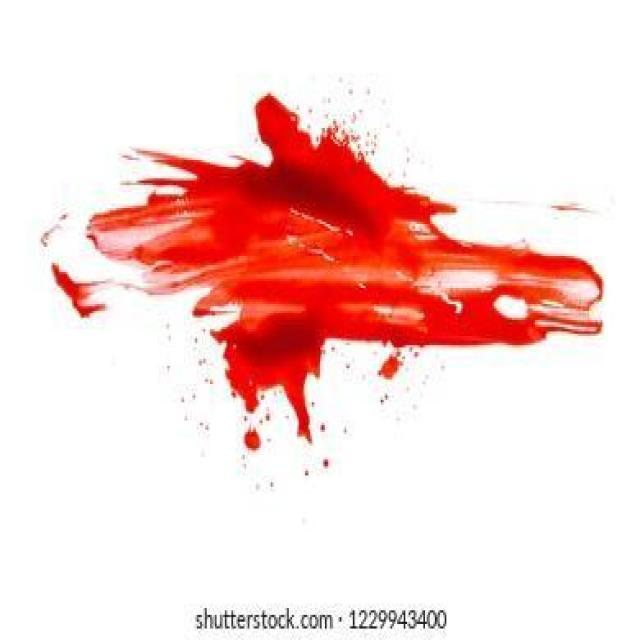flood: (49, 83, 610, 428)
